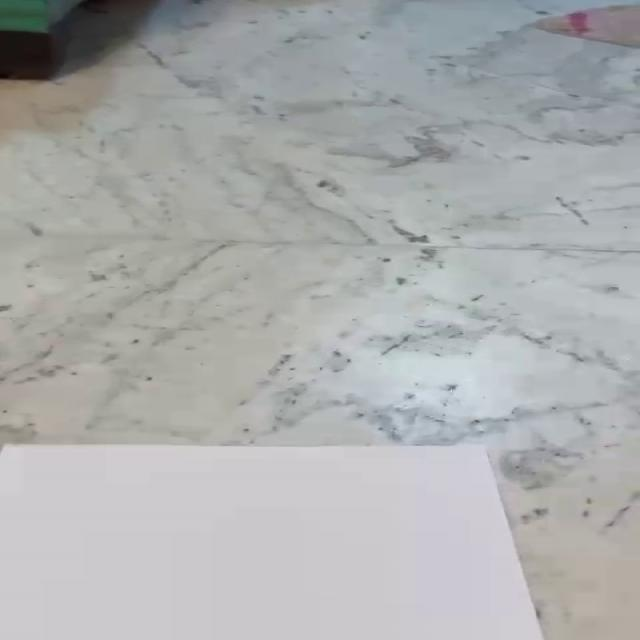road: (0, 445, 545, 640)
